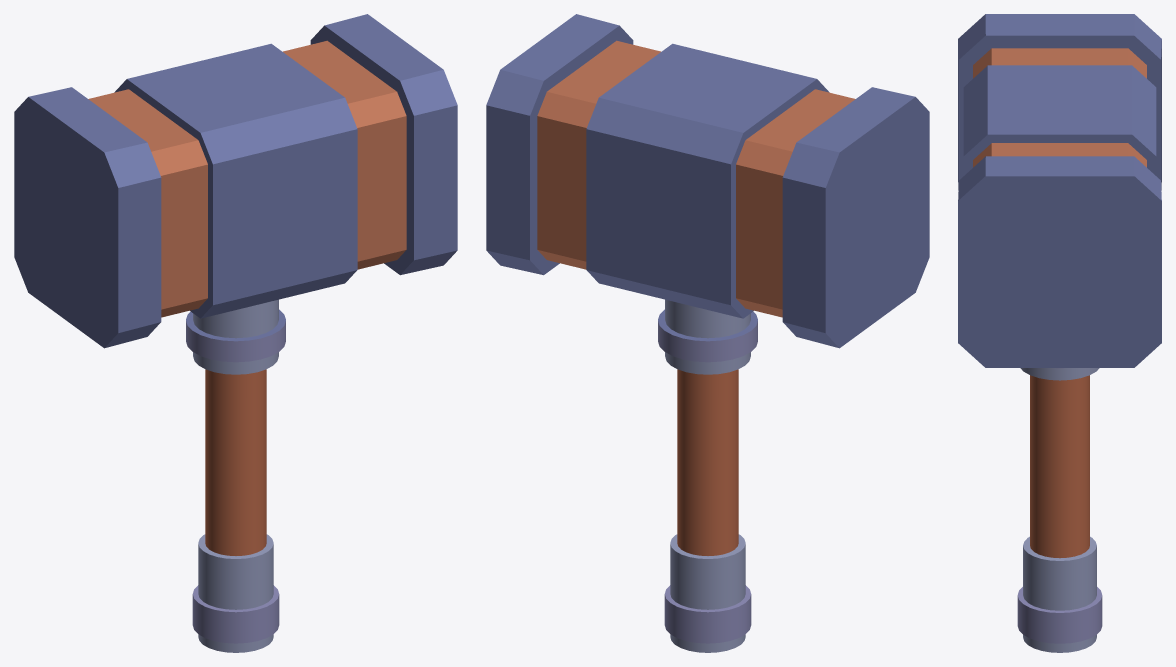
File: Hammer B Multi.fbx
The picture shows the model from 3 angles, left to right: view 1: azimuth 30°, elevation 25°; view 2: azimuth 150°, elevation 25°; view 3: azimuth 270°, elevation 25°; orthographic projection. The views are drawn at different scales.
Parts seen in each view (by area): view 1: Hammer B Multi; view 2: Hammer B Multi; view 3: Hammer B Multi.
Part boxes in pixels (box(x1,y1,x2,y2)): Hammer B Multi: box(14, 14, 457, 652); Hammer B Multi: box(486, 14, 929, 652); Hammer B Multi: box(958, 14, 1161, 652).
Size of the model in its own units: 0.659 by 1.03 by 0.3499.
